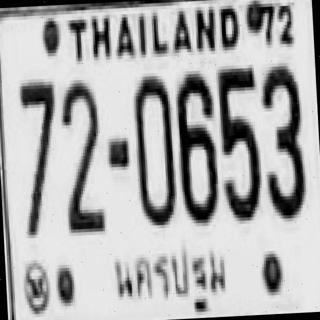N00: (130, 72, 176, 223)
N02: (58, 77, 104, 232)
N03: (258, 62, 306, 216)
N05: (216, 64, 262, 218)
N06: (174, 70, 218, 220)
N07: (16, 78, 61, 235), (18, 79, 56, 185)
P28: (106, 238, 232, 320)
